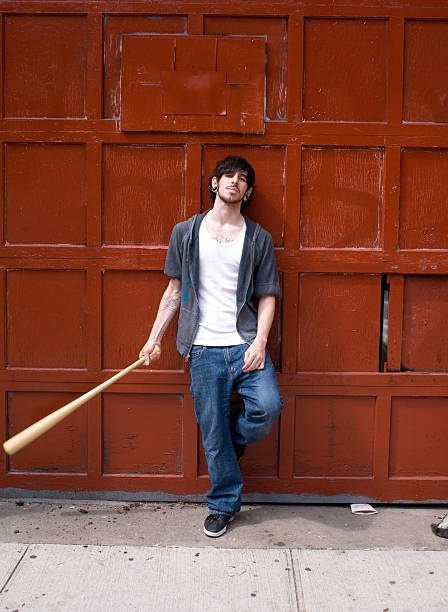bita: (4, 348, 158, 456)
